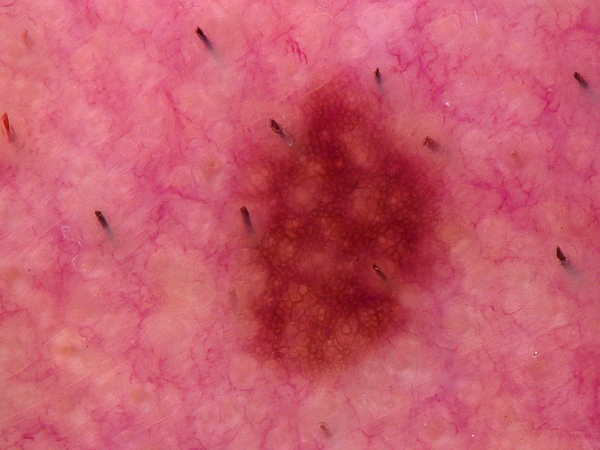Detected Lesion: (236, 75, 448, 387)
